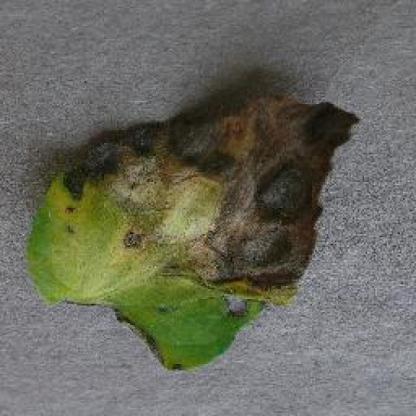Tomato_Blight: (26, 89, 359, 369)
